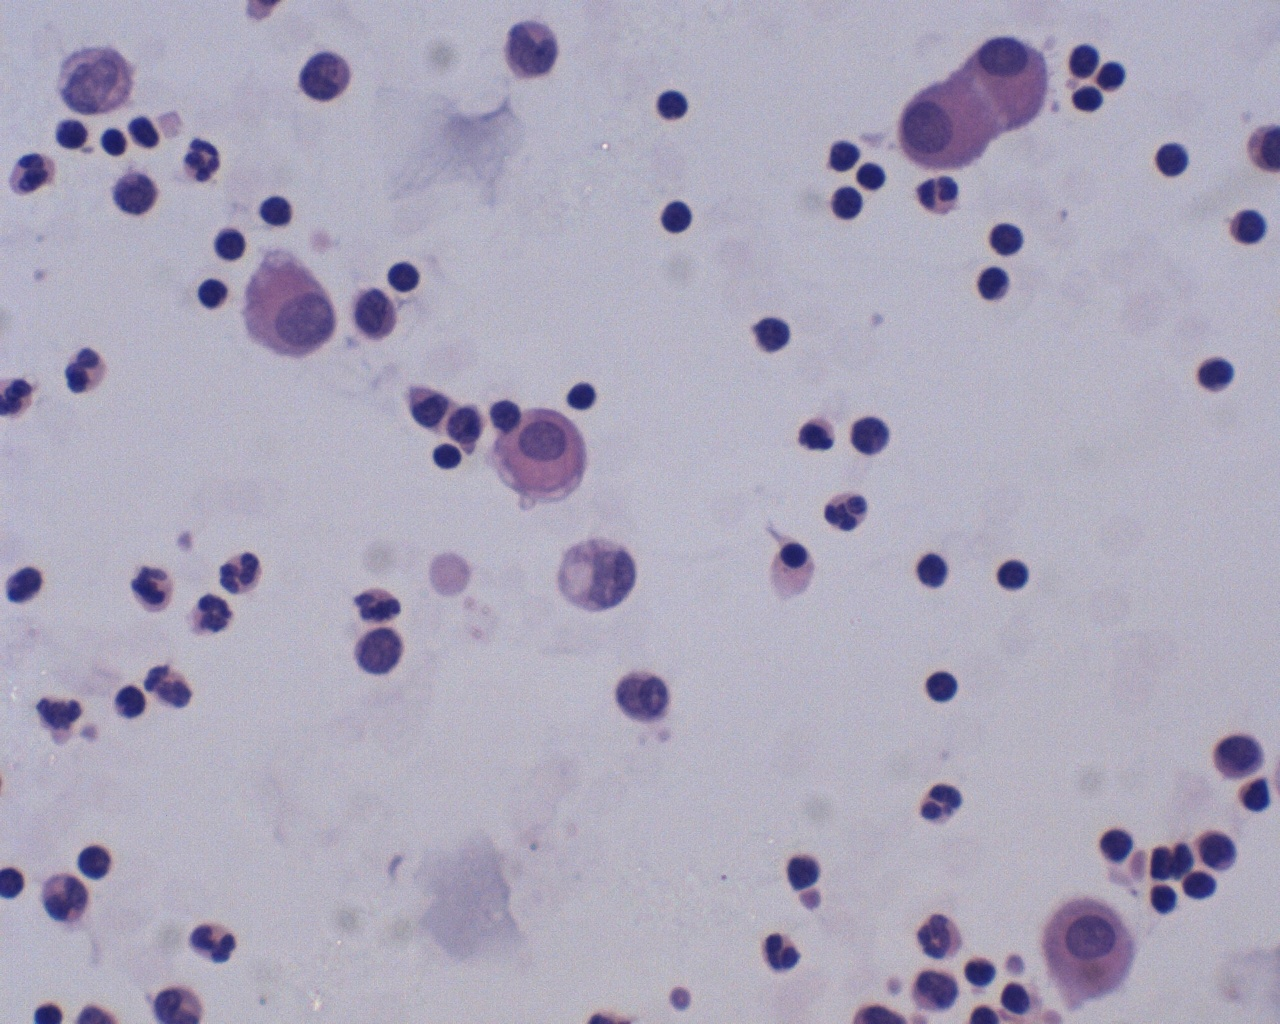ab: (239, 248, 345, 366), (59, 40, 138, 123)
lymph: (645, 75, 704, 130), (651, 195, 706, 243), (75, 835, 121, 890), (910, 544, 954, 598), (920, 659, 965, 708), (981, 216, 1028, 263), (379, 255, 429, 298), (993, 558, 1044, 599), (973, 263, 1019, 305), (1194, 352, 1237, 396), (1226, 203, 1267, 248), (1153, 139, 1196, 181), (52, 116, 94, 159), (827, 185, 871, 225), (430, 439, 463, 478)
meso: (1025, 891, 1140, 1006), (891, 62, 996, 171), (973, 23, 1058, 134), (499, 401, 594, 501)
neutro: (911, 903, 969, 965), (908, 773, 971, 829), (185, 918, 248, 973), (348, 573, 408, 627), (64, 339, 113, 403), (118, 559, 178, 612), (216, 544, 270, 604), (757, 925, 815, 977), (817, 487, 870, 540), (174, 136, 229, 187), (189, 588, 234, 639)
